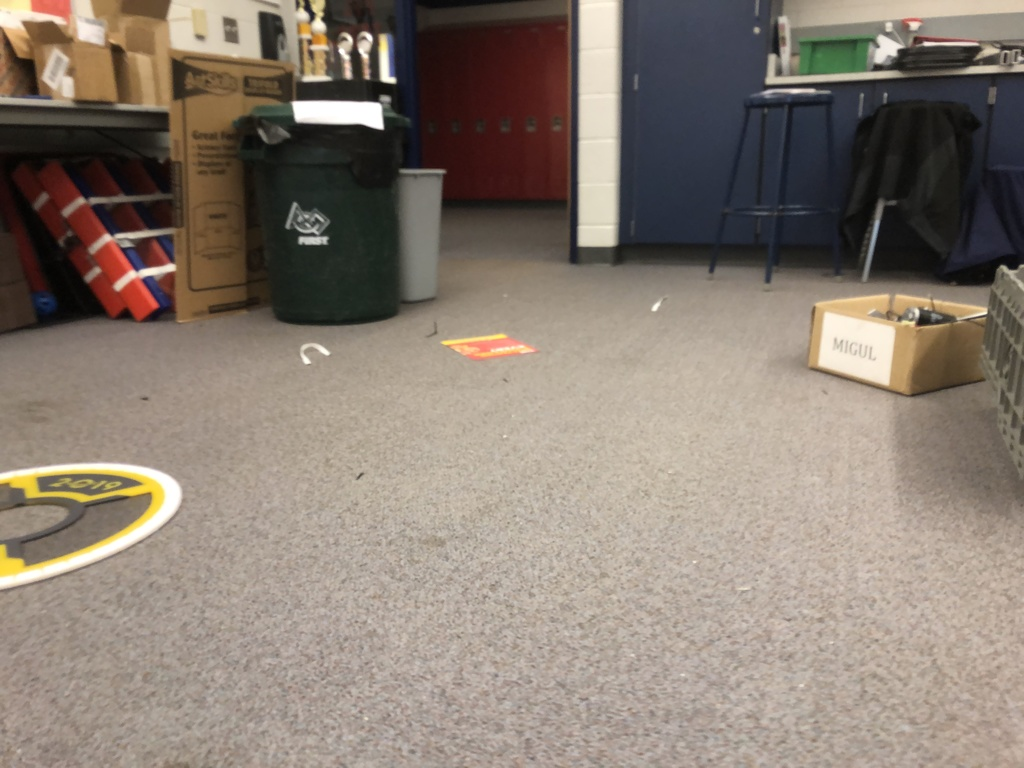hatch_panel: (1, 457, 197, 601)
